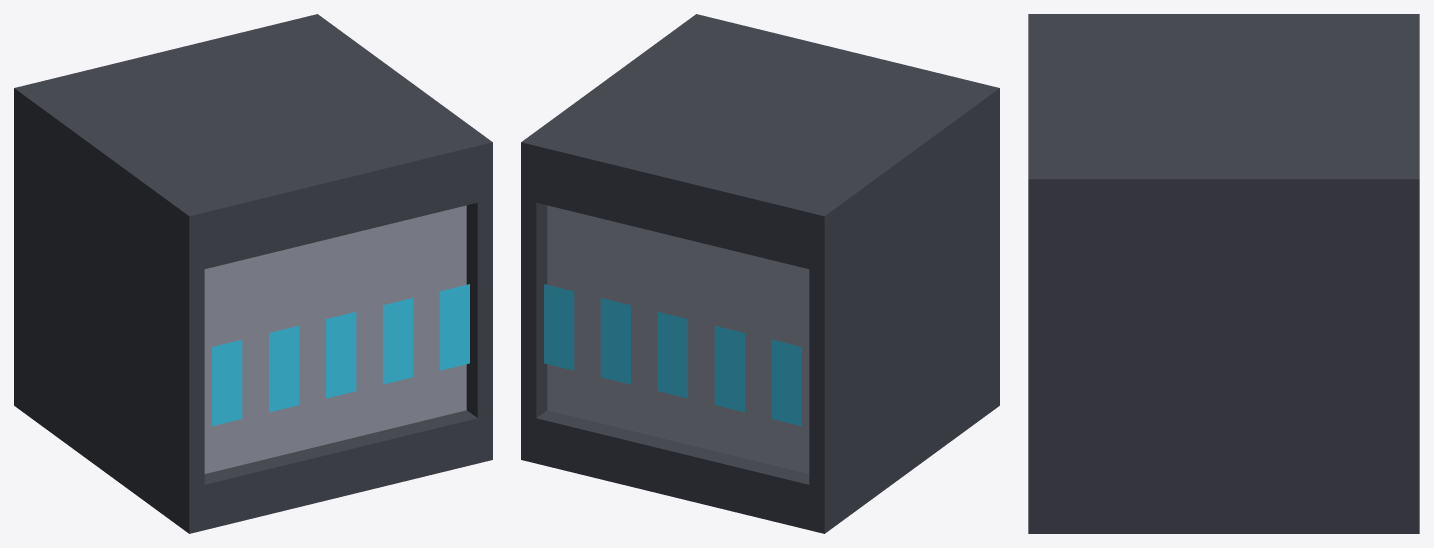
Rendered from cover.glb.
3 views of the same model, side by side, from view 1: azimuth 30°, elevation 25°; view 2: azimuth 150°, elevation 25°; view 3: azimuth 270°, elevation 25° (orthographic). The views are drawn at different scales.
Visible parts, largest first — view 1: cover; view 2: cover; view 3: cover.
Boxes of the visible parts, x1,y1,x2,y2 form: cover: [14, 14, 492, 533]; cover: [521, 14, 999, 533]; cover: [1028, 14, 1419, 533].
Bounding box in the file's own units: 1 × 1 × 1.
